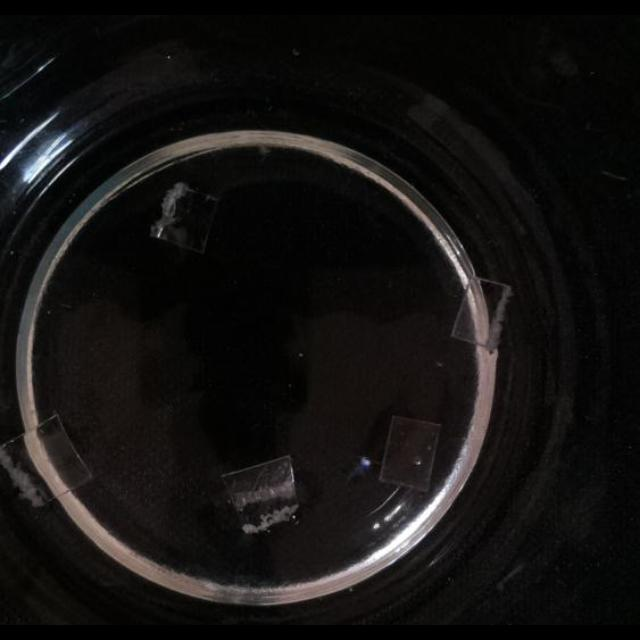Film: (1, 412, 95, 506), (220, 455, 300, 533), (378, 414, 442, 492), (150, 183, 220, 254), (450, 276, 512, 354)
